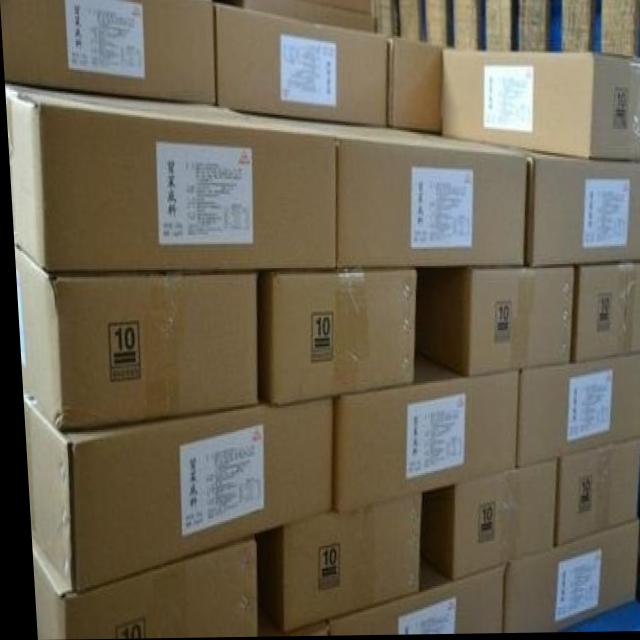box: (4, 82, 334, 276), (18, 395, 329, 595), (13, 247, 254, 436), (244, 114, 526, 272), (327, 352, 514, 514), (439, 50, 640, 163), (26, 540, 249, 640), (257, 269, 415, 407), (3, 0, 213, 103), (214, 5, 387, 126), (275, 497, 415, 633), (412, 268, 571, 378), (414, 461, 552, 583), (494, 522, 633, 635), (510, 356, 640, 471), (320, 561, 498, 637), (526, 155, 640, 268), (549, 441, 637, 550), (568, 265, 640, 363), (386, 40, 440, 133)
